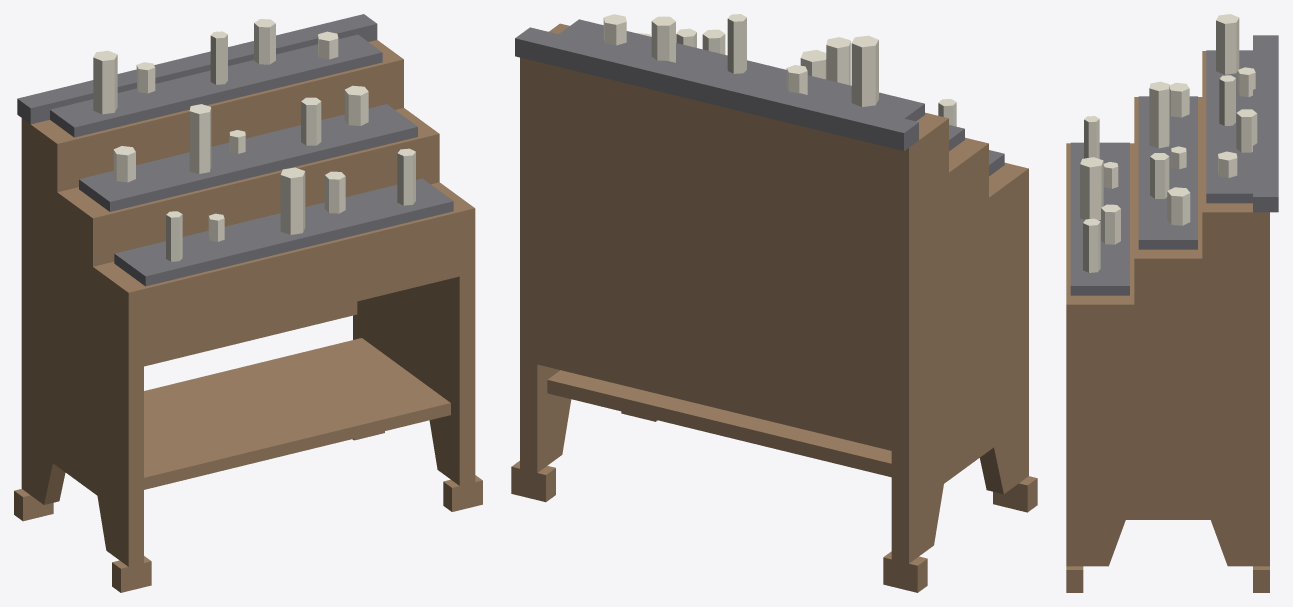
File: prop-votive-candle-rack.glb
3 renders of one model, left to right at view 1: azimuth 30°, elevation 25°; view 2: azimuth 150°, elevation 25°; view 3: azimuth 270°, elevation 25°, orthographic. The views are drawn at different scales.
Visible parts, largest first — view 1: prop-votive-candle-rack; view 2: prop-votive-candle-rack; view 3: prop-votive-candle-rack.
Part boxes in pixels (x1,y1,x2,y2): prop-votive-candle-rack: (14, 14, 482, 592); prop-votive-candle-rack: (511, 14, 1037, 592); prop-votive-candle-rack: (1066, 14, 1278, 592).
Bounding box in the file's own units: 0.94 × 1.14 × 0.5.
